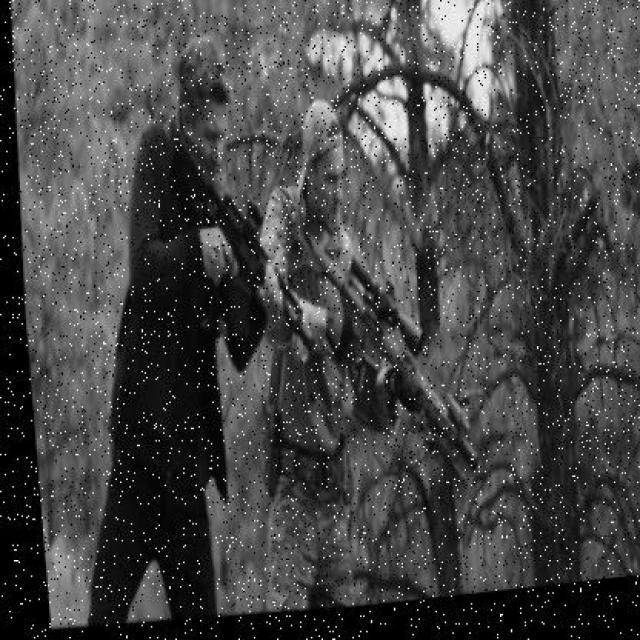weapon: (297, 227, 489, 491), (168, 146, 327, 370)
